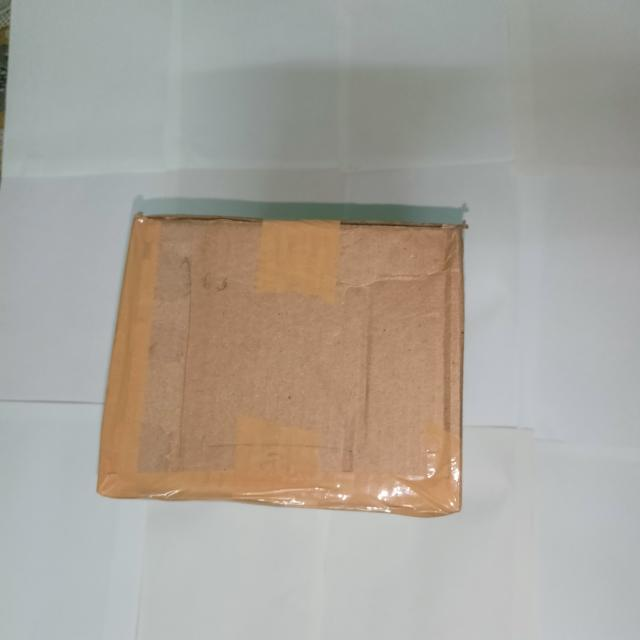box: (94, 219, 471, 519)
